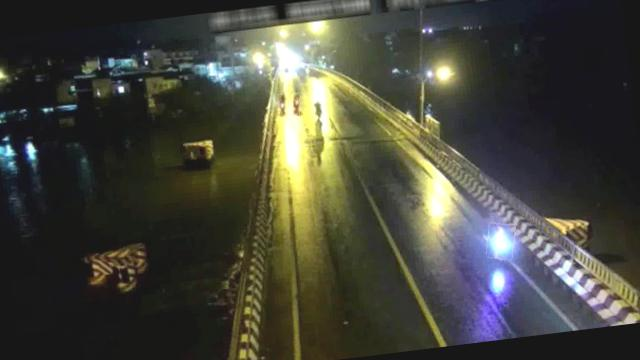Bike: (484, 221, 517, 260), (289, 93, 302, 116), (313, 97, 325, 118), (277, 93, 290, 112)
